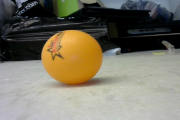PingPongBall: (41, 30, 103, 85)
